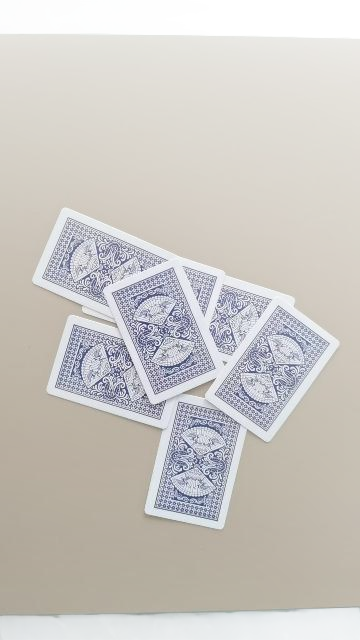card: (205, 296, 339, 441), (104, 259, 222, 404), (32, 208, 176, 316), (46, 316, 174, 429), (145, 395, 246, 529), (179, 258, 225, 324), (180, 258, 225, 322)
